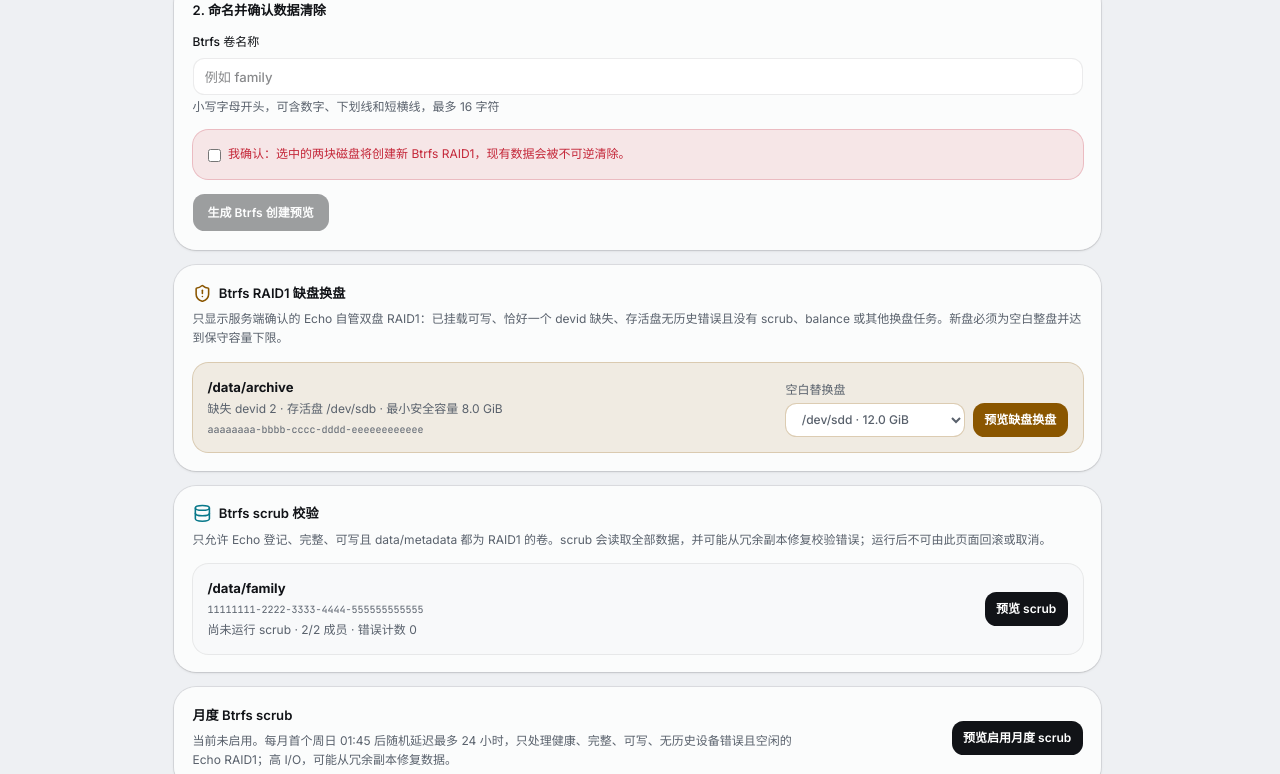
it: Btrfs RAID1 panel › previews and approves the fixed safe monthly scrub policy
(page scrolled)
Click the button "预览启用月度 scrub": (1017, 738) [952,721,1082,755]
(page scrolled)
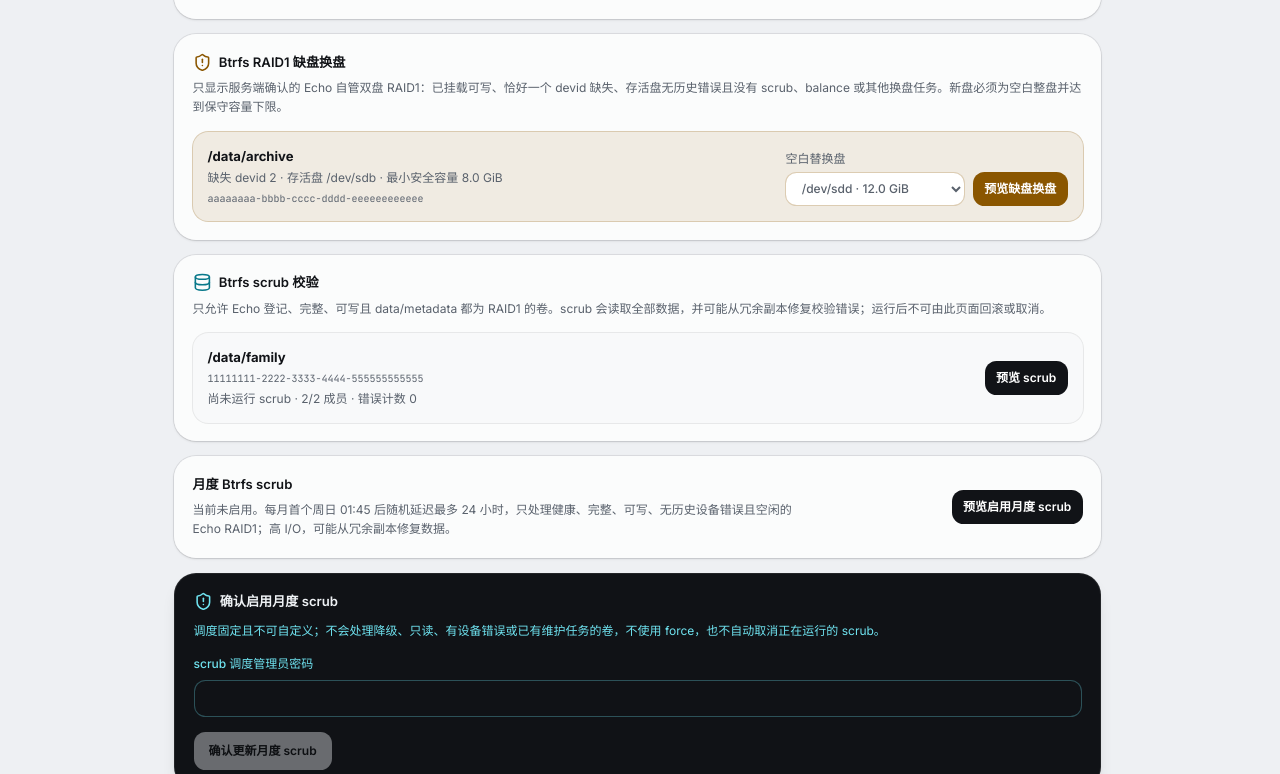
Expected: the text "不会处理降级、只读、有设备错误" is shown, [194,623,886,638]
In the password field labelled "scrub 调度管理员密码": (638, 698) [194,680,1082,717], type "schedule-password"
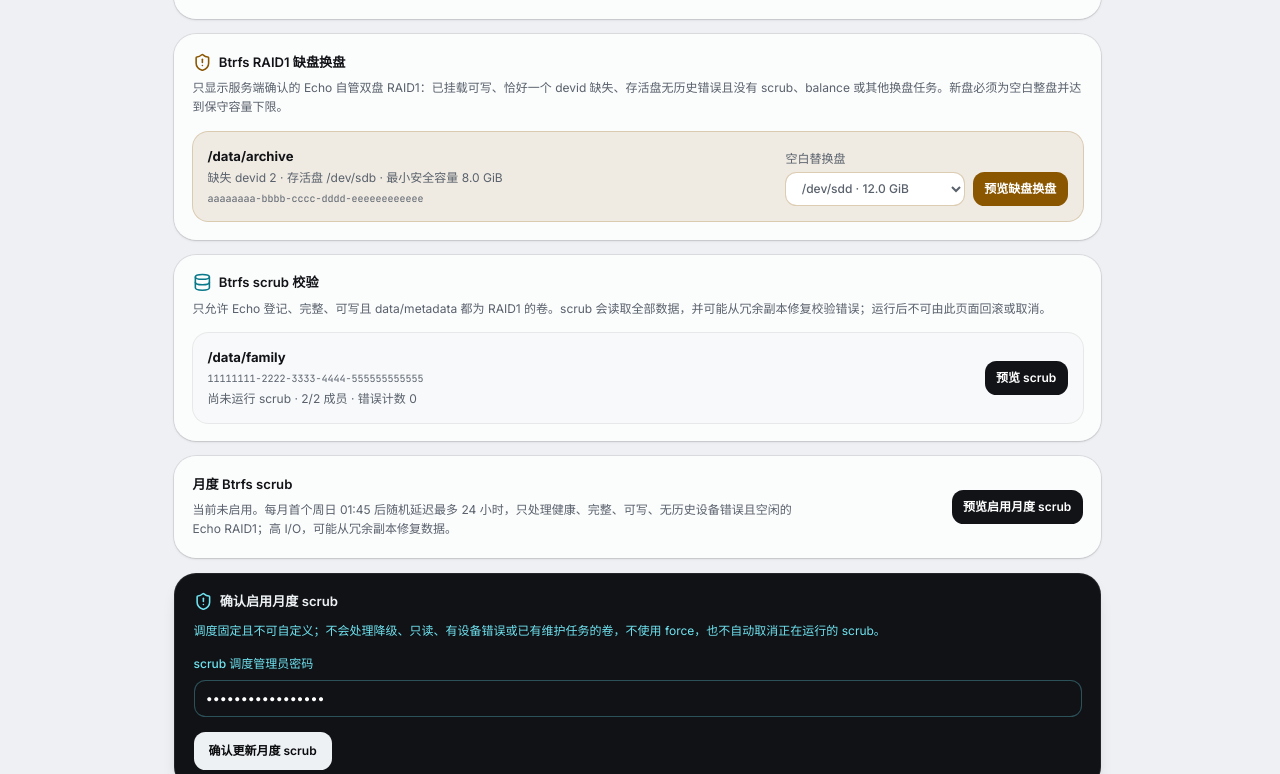
Click the button "确认更新月度 scrub": (263, 751) [194,732,332,770]
(page scrolled)
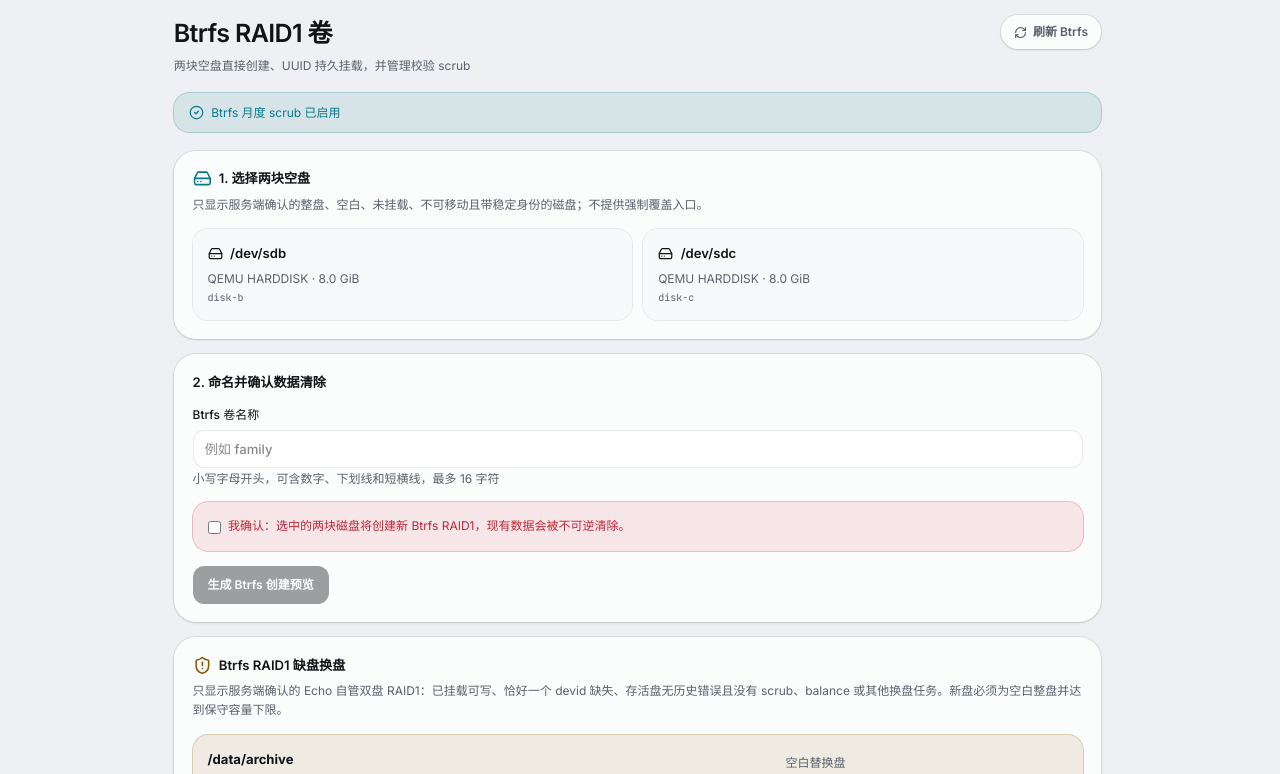
Expected: the text "Btrfs 月度 scrub 已启用" is shown, [174,93,1101,132]
